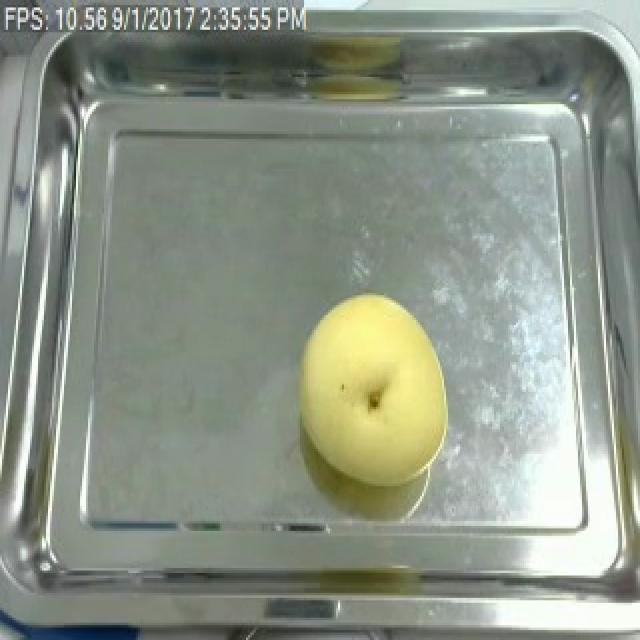Fruit: (288, 288, 456, 491)
